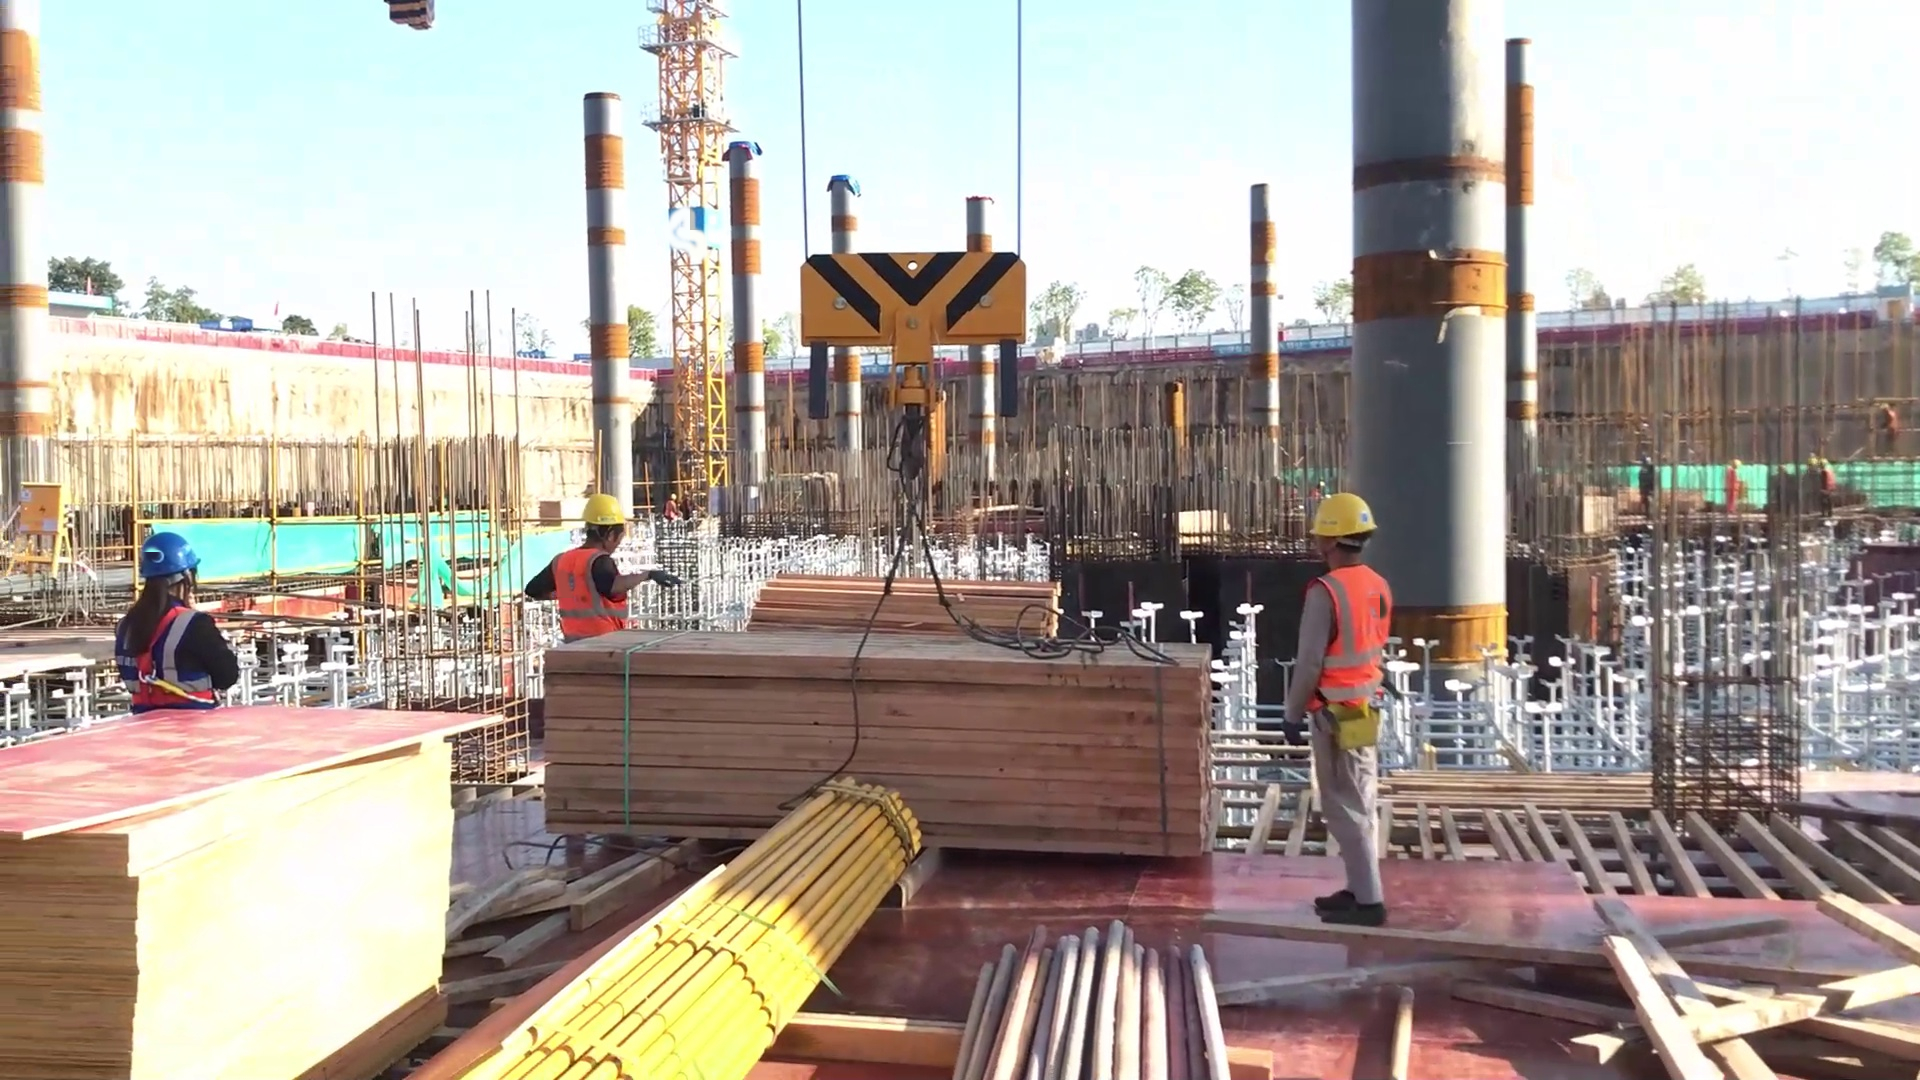board: (1, 703, 544, 1077)
ebox: (6, 474, 78, 574)
helmet: (115, 524, 213, 585), (566, 479, 644, 541), (1298, 491, 1375, 546)
hook: (794, 234, 1038, 479)
person: (1269, 485, 1429, 934), (540, 483, 694, 653), (119, 522, 238, 729)
rebar: (932, 904, 1232, 1080)
vest: (1301, 551, 1400, 707), (109, 597, 231, 708), (548, 535, 632, 656)
wood: (515, 608, 1252, 874)
